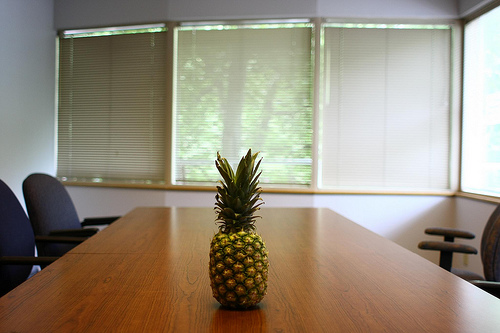pineapple: (209, 148, 271, 309)
